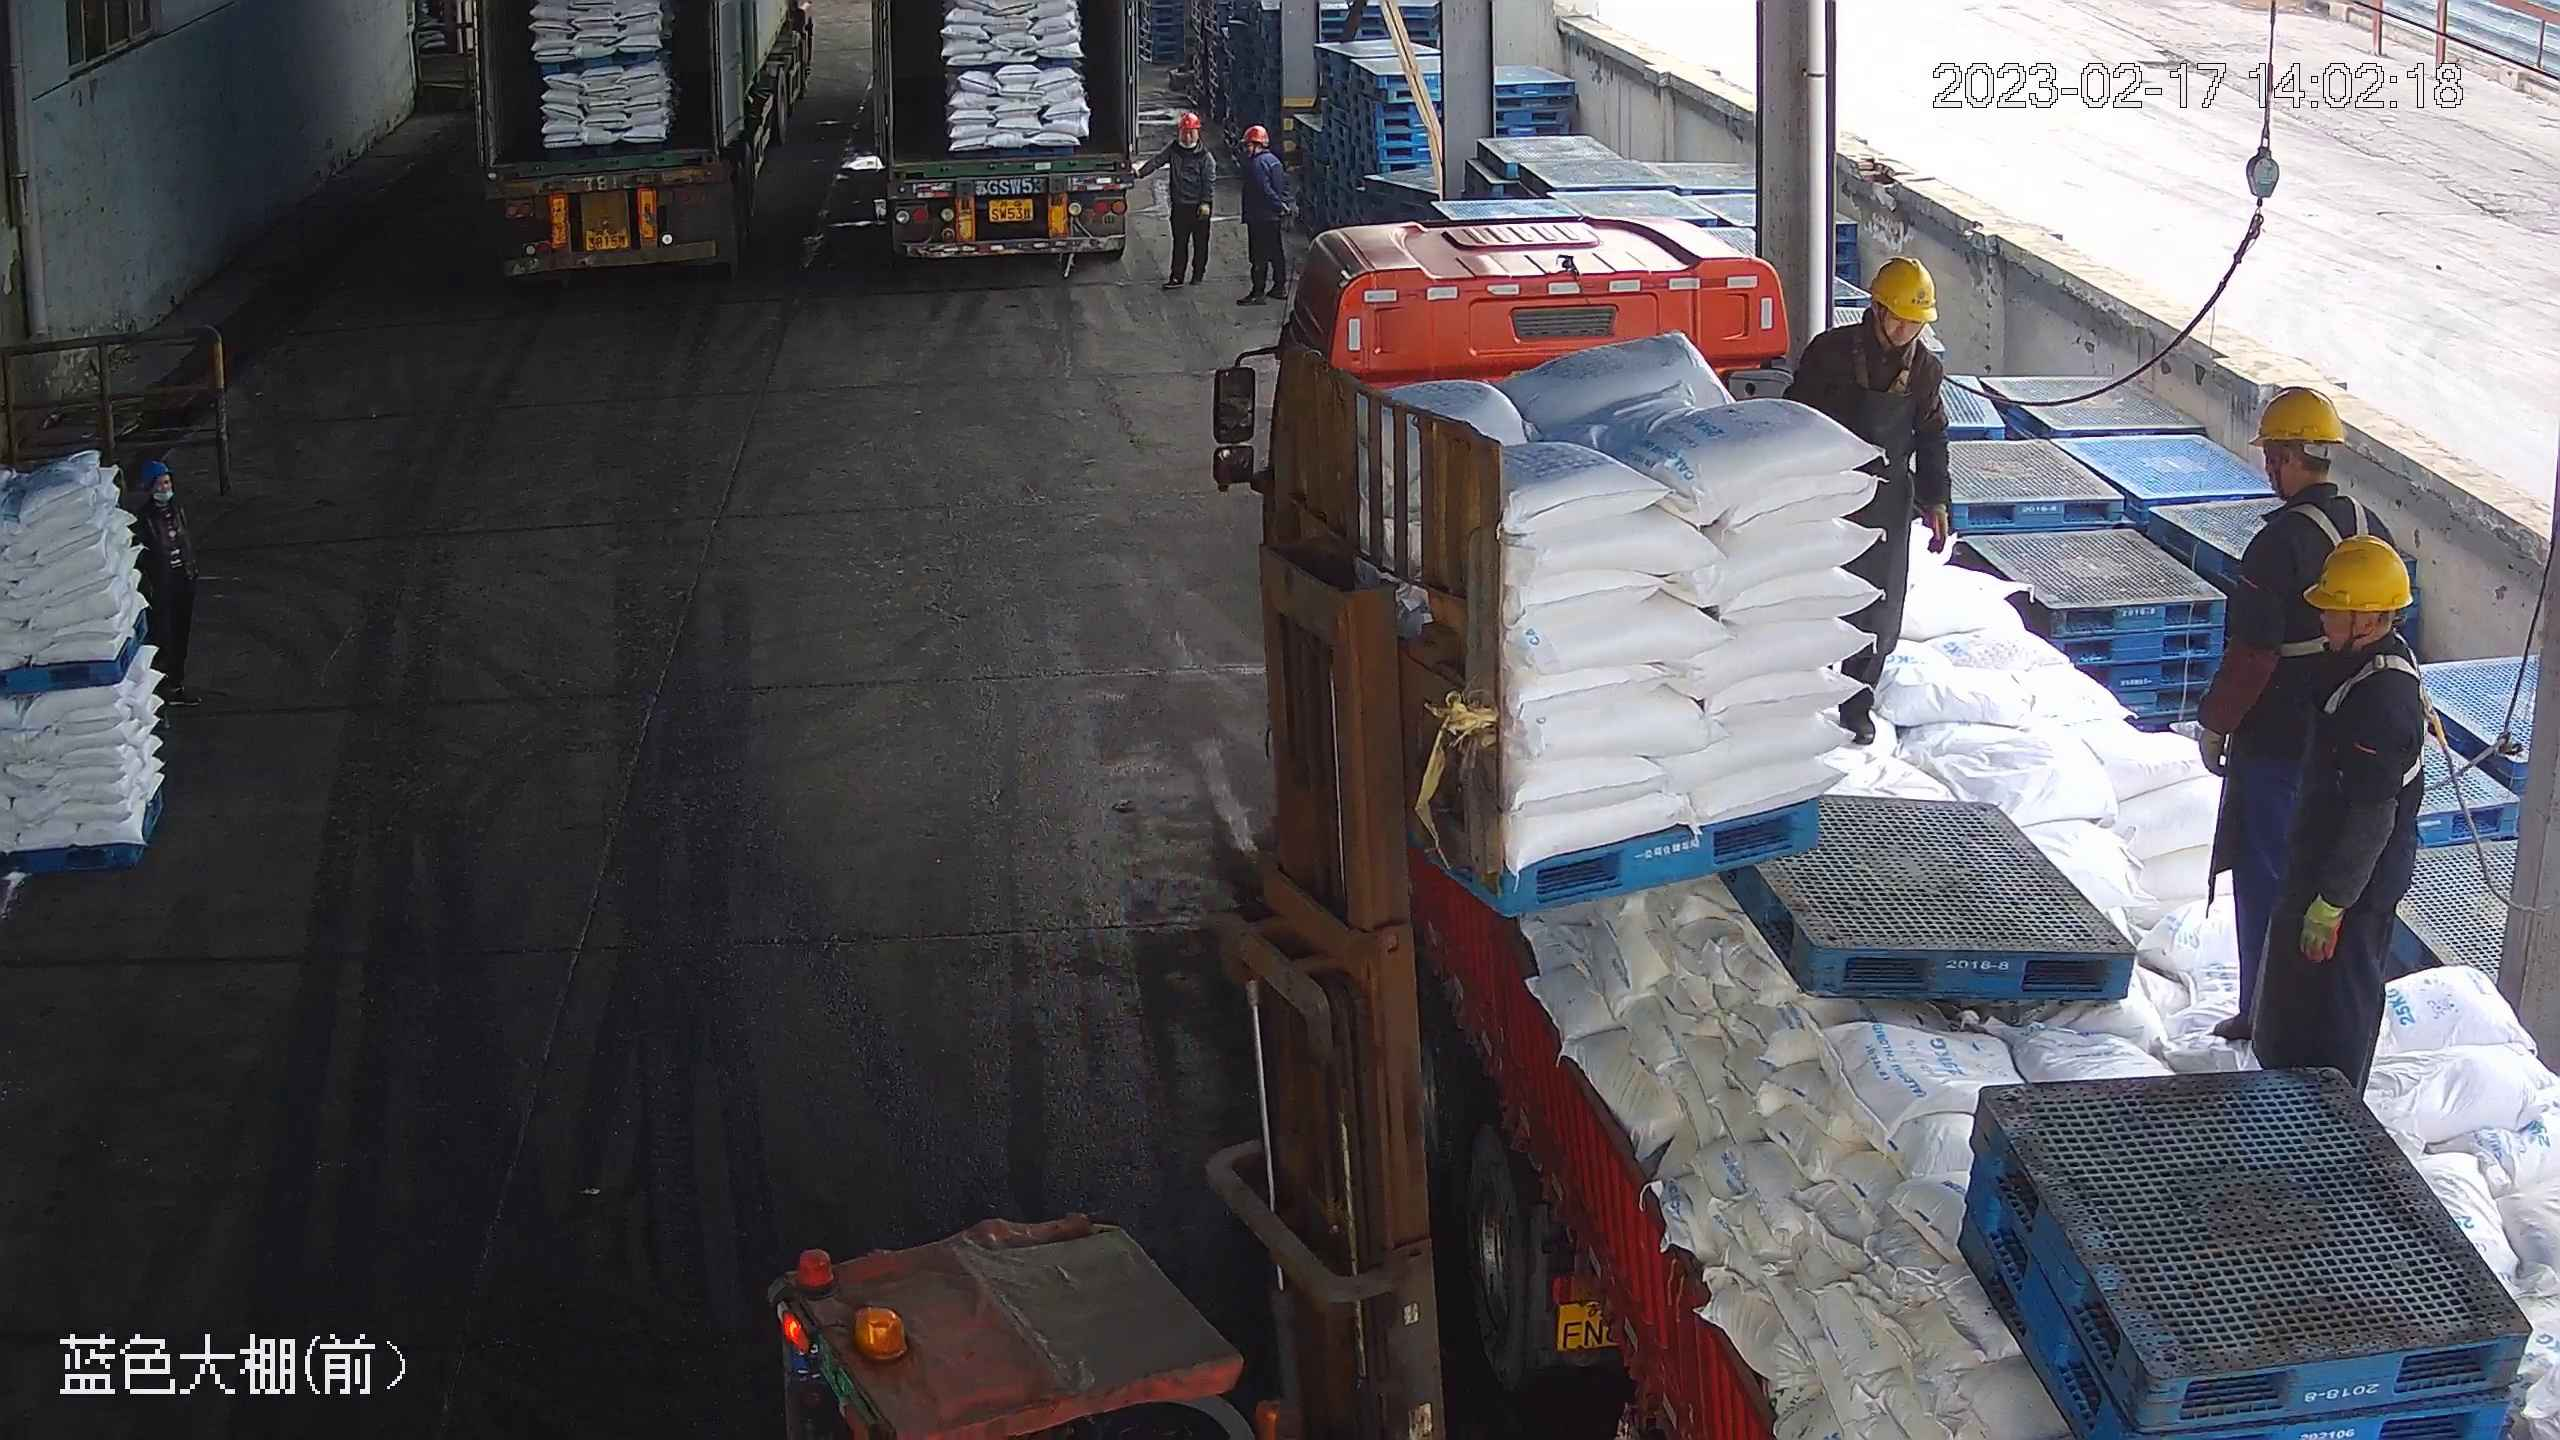belt: (2320, 638, 2444, 742), (2276, 487, 2381, 558), (1850, 332, 1930, 396)
head: (2263, 529, 2438, 737), (2213, 382, 2392, 584), (1802, 251, 1941, 404), (1234, 123, 1285, 180), (1164, 111, 1214, 168)
helmet: (2297, 528, 2415, 617), (2247, 383, 2352, 450), (1867, 247, 1940, 326), (1241, 123, 1267, 146), (1175, 111, 1202, 131)
people: (2243, 533, 2430, 1095), (1780, 250, 1953, 747), (1151, 111, 1218, 288), (1231, 120, 1288, 306)
truck: (1211, 197, 2560, 1438), (473, 1, 821, 282), (849, 1, 1153, 317)
